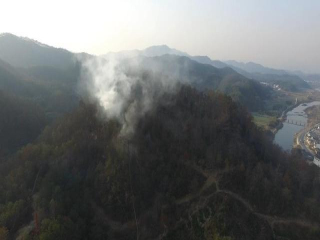smoke: (77, 48, 192, 140)
